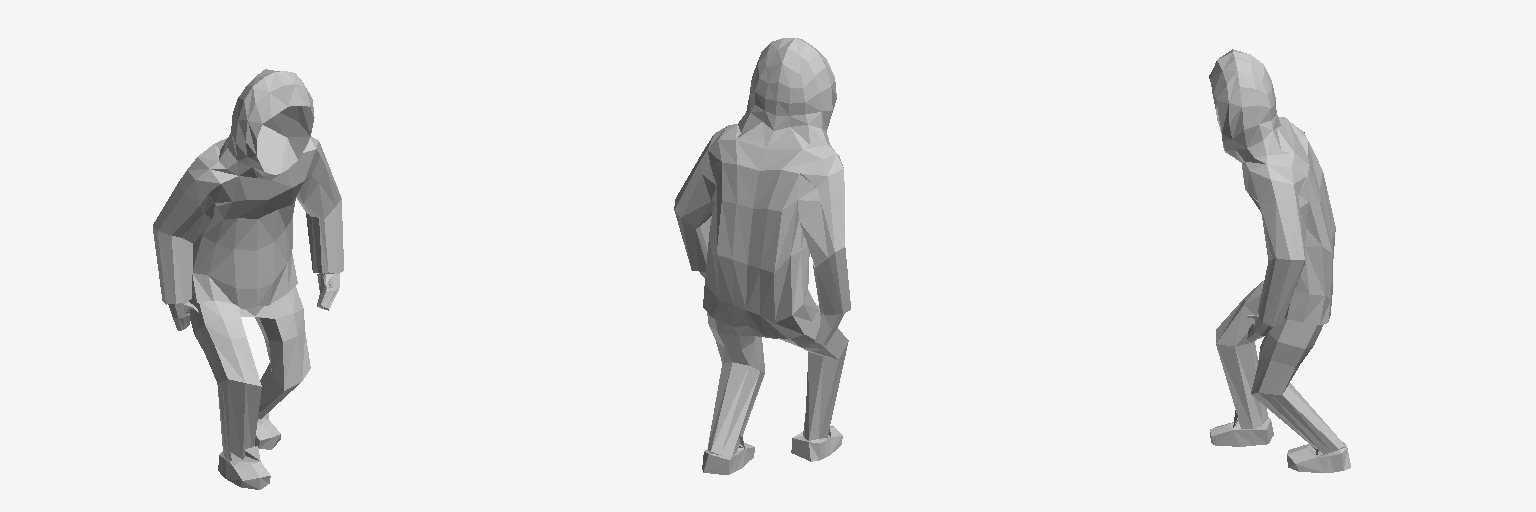
File: Shadowmanv_000008.obj
3 views of the same model, side by side, from view 1: azimuth 30°, elevation 25°; view 2: azimuth 150°, elevation 25°; view 3: azimuth 270°, elevation 25° (orthographic).
Parts seen in each view (by area): view 1: Cube.000; view 2: Cube.000; view 3: Cube.000.
Part boxes in pixels (left/top/right/bottom): Cube.000: left=153, top=69, right=343, bottom=489; Cube.000: left=674, top=38, right=850, bottom=474; Cube.000: left=1209, top=49, right=1350, bottom=472.
Bounding box in the file's own units: 4.93 × 10.83 × 3.47.